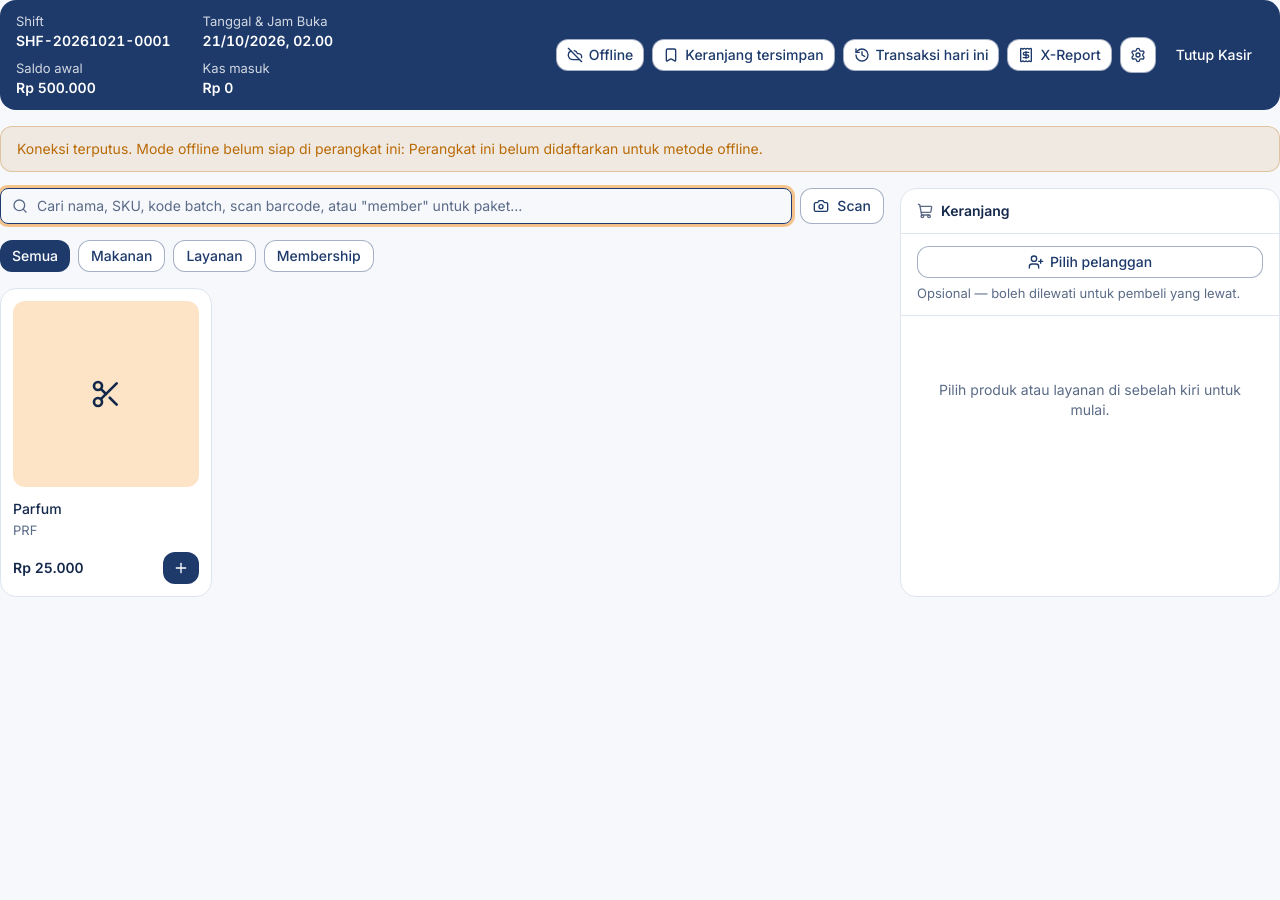
Test: an add-on picked alone at the till › still asks with a single option
Step 1. Click the button "Pilih pelanggan" → (1090,262), box [917,246,1263,278]
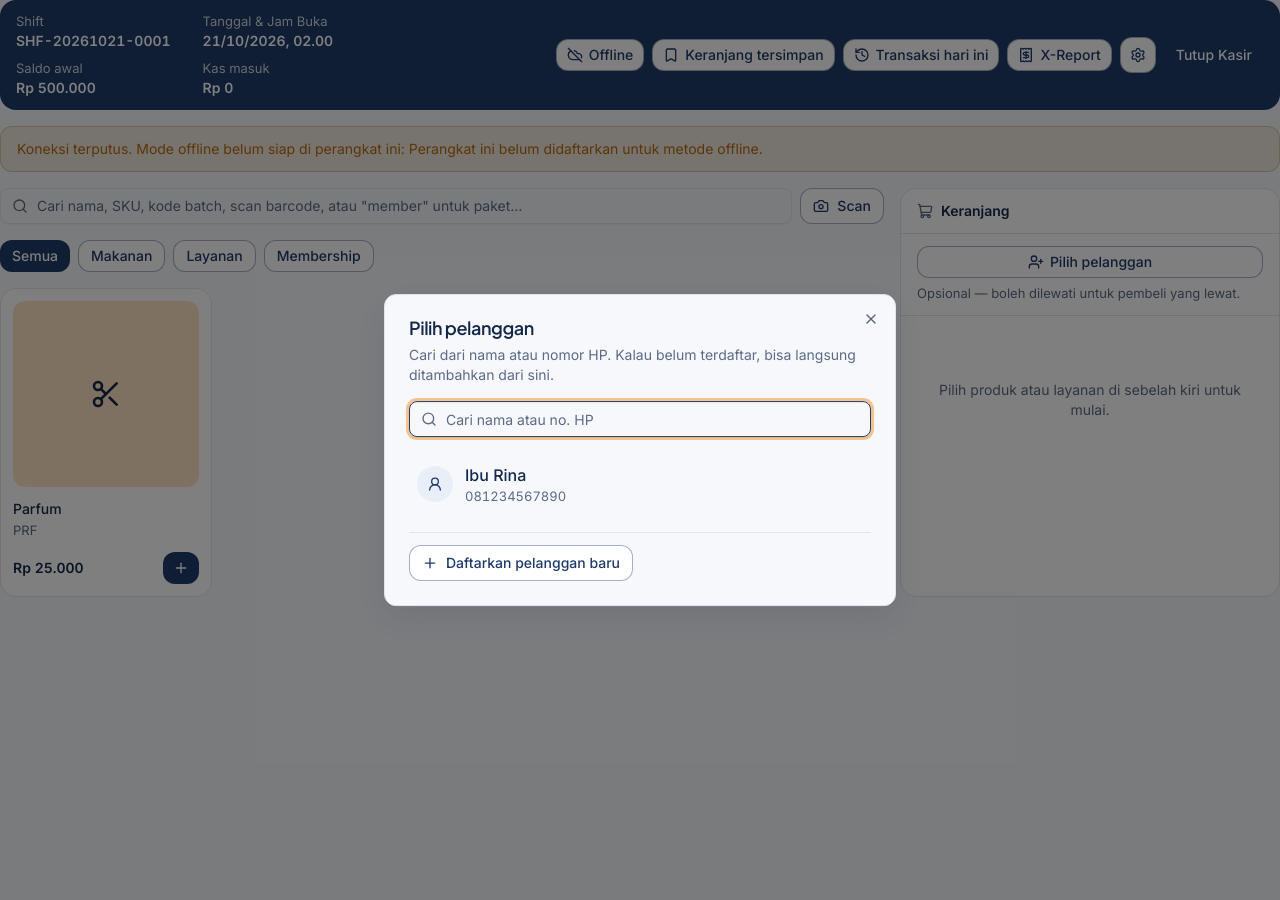
Step 2. Click the text "Ibu Rina" → (496,475), box [465,465,526,485]
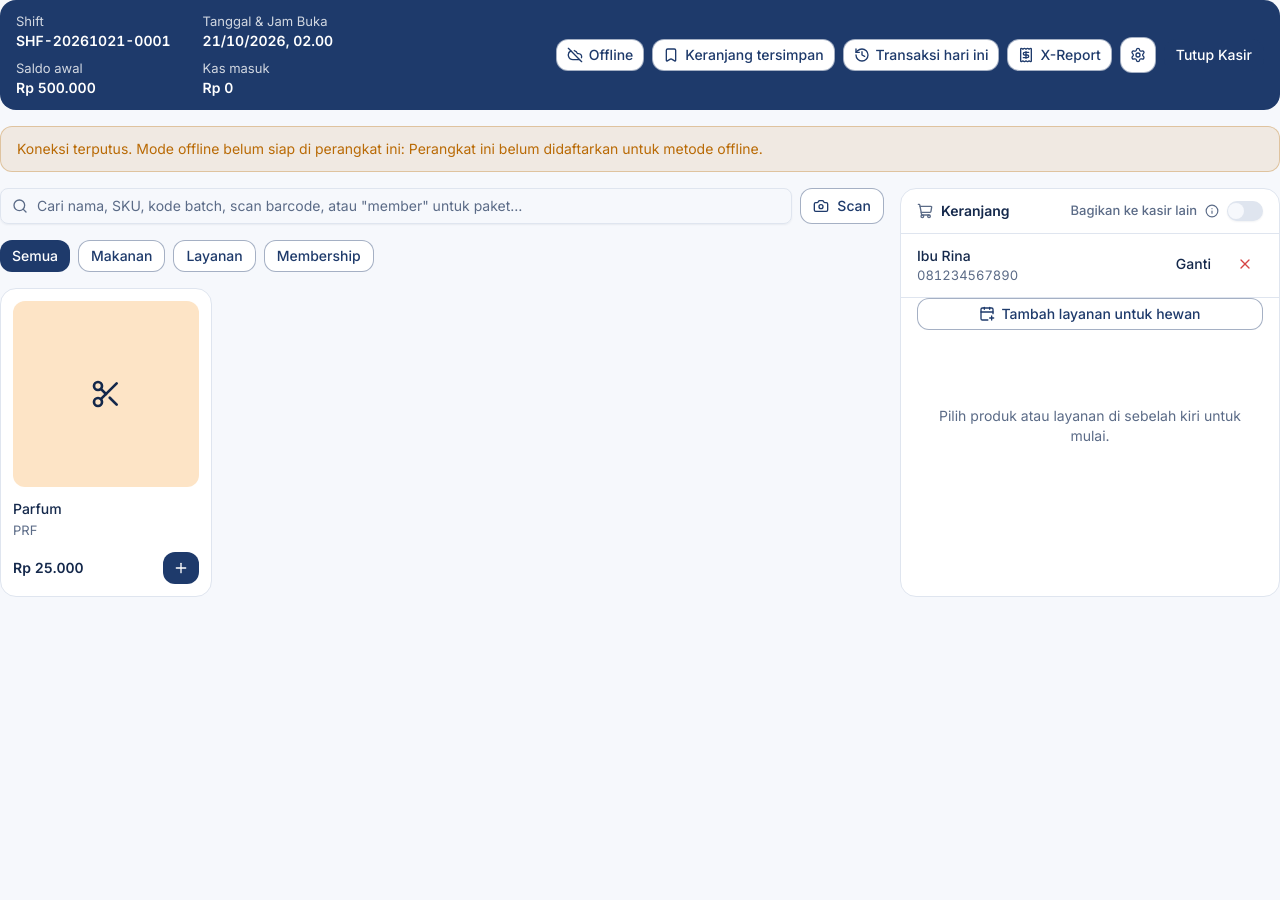
Step 3. Click the button named "parfum" → (181,568), box [163,552,199,584]
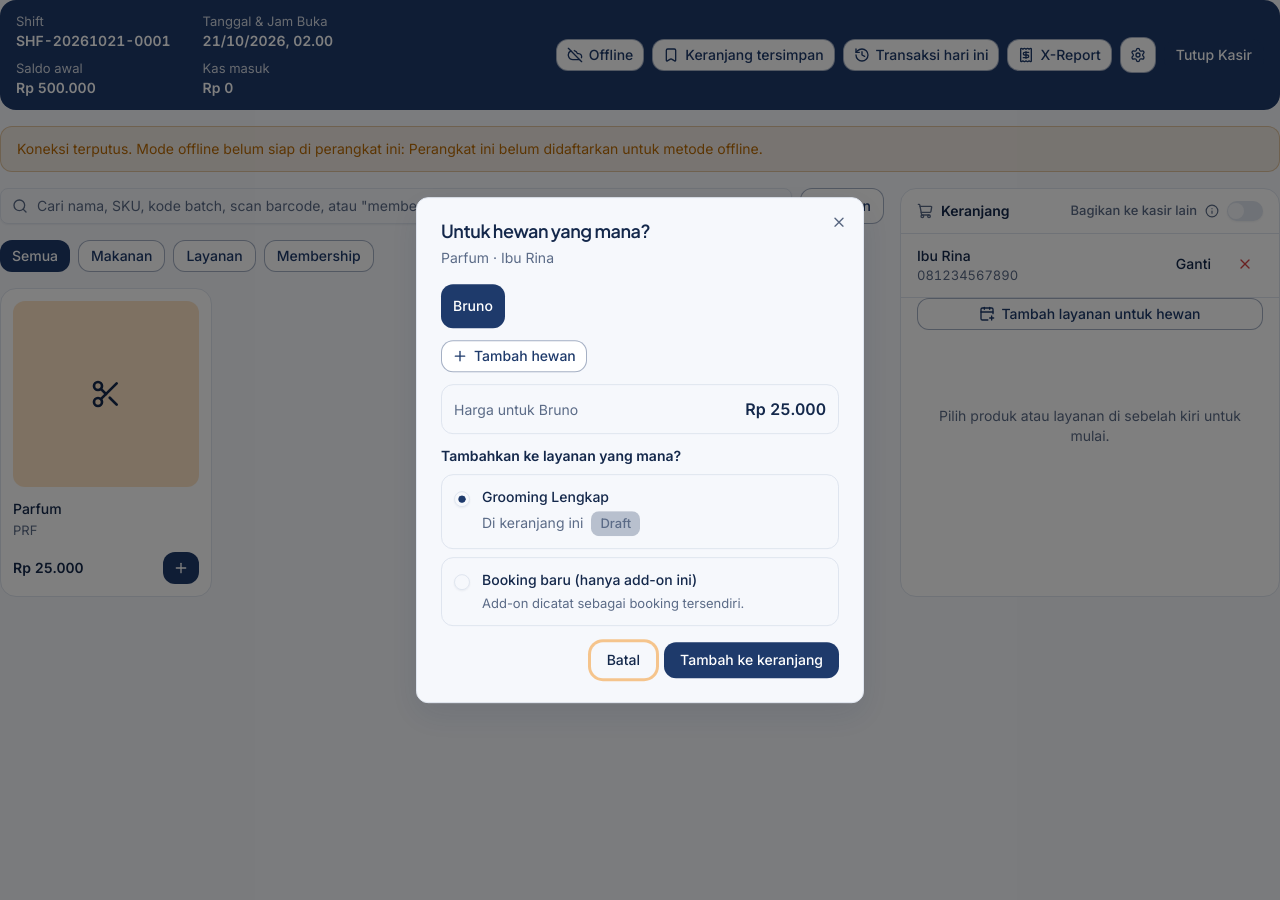
Check: the text "Rp 25.000" is shown, box [745,397,826,421]
